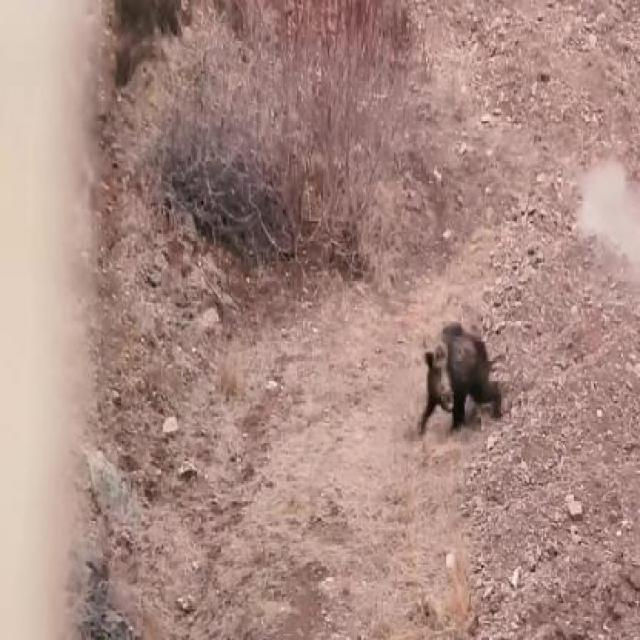pig: (412, 291, 516, 462)
